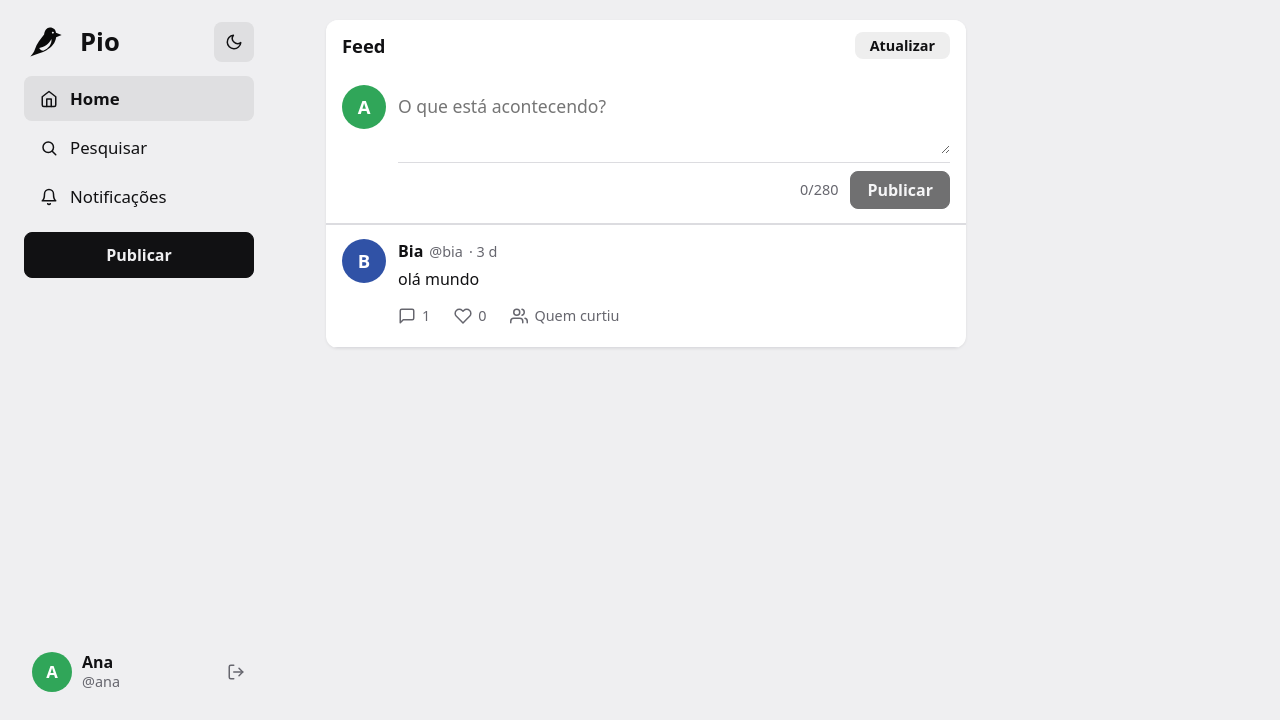
Test: feed › mostra quantas respostas o pio tem; clicar no pio abre o detalhe com elas
The width and height of the screenshot is (1280, 720).
Click the text "olá mundo".
click(439, 279)  # box [398, 268, 479, 290]
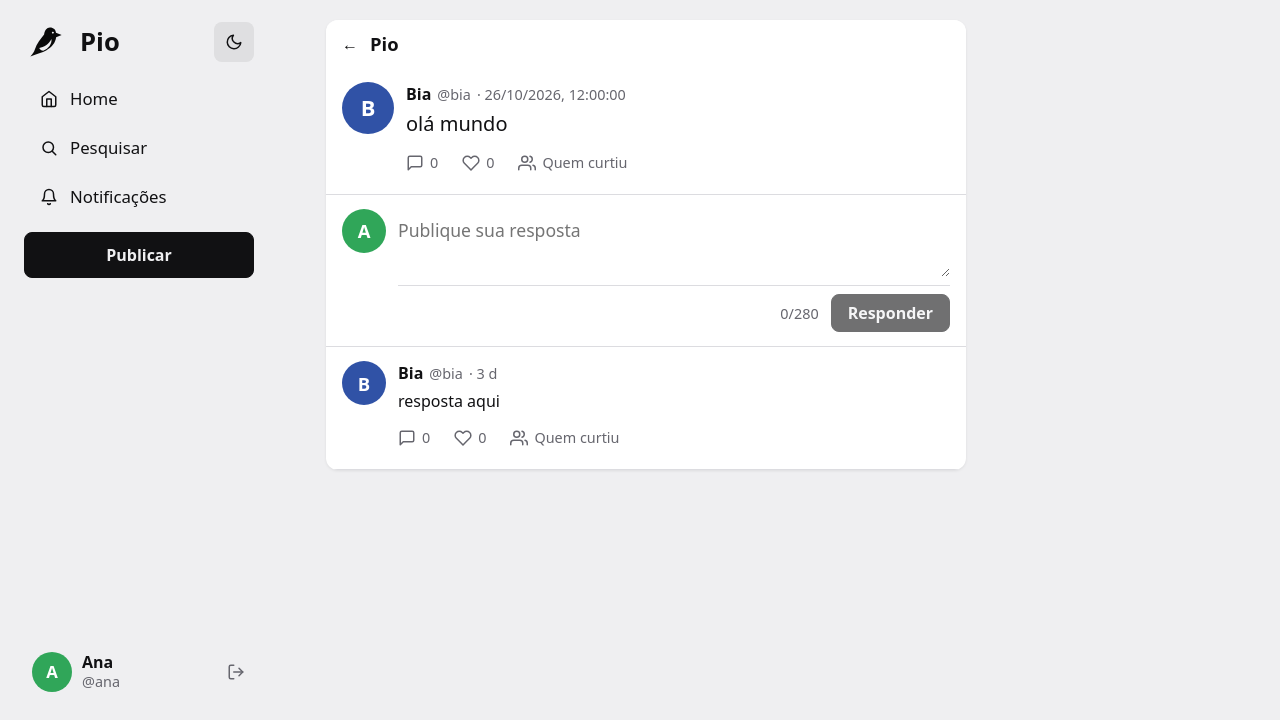
Expected: the text "resposta aqui" is shown, [398, 390, 500, 412]
Expected: the 2nd heading "Pio" is shown, [370, 31, 398, 56]
